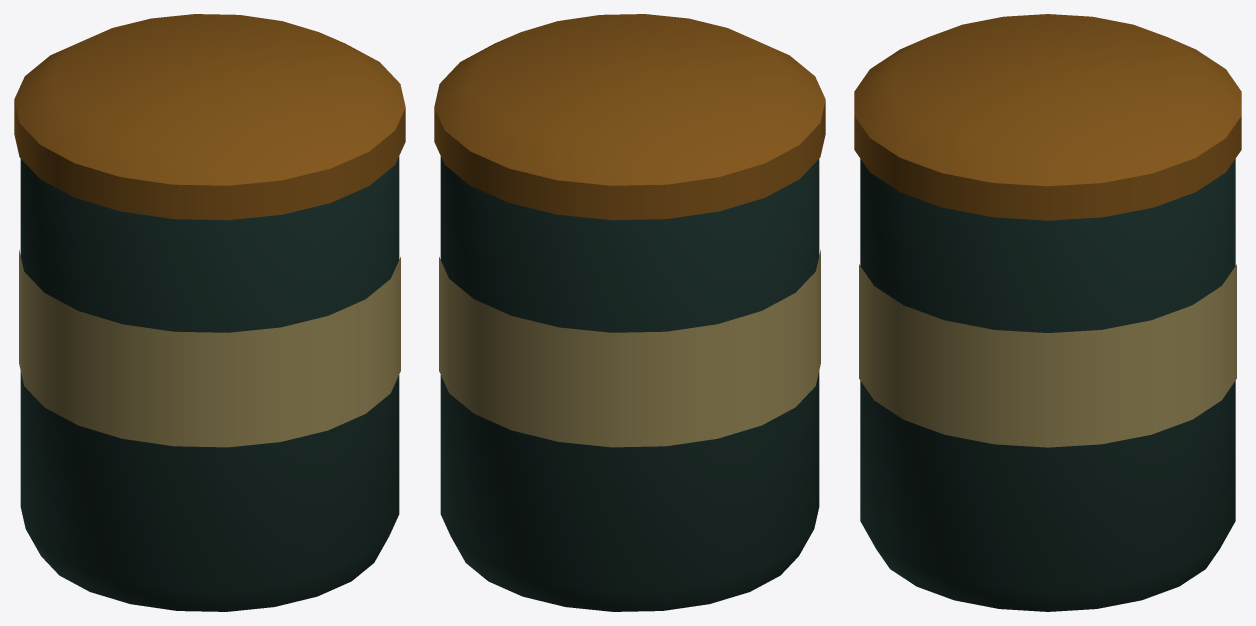
The model's file is tea-tin.glb.
3 views of the same model, side by side, from view 1: azimuth 30°, elevation 25°; view 2: azimuth 150°, elevation 25°; view 3: azimuth 270°, elevation 25° (orthographic).
Parts seen in each view (by area): view 1: body__enamel, lid__enamel; view 2: body__enamel, lid__enamel; view 3: body__enamel, lid__enamel.
Boxes of the visible parts, x1,y1,x2,y2 form: body__enamel: [19, 156, 400, 611]; lid__enamel: [14, 14, 405, 220]; body__enamel: [439, 156, 820, 611]; lid__enamel: [434, 14, 825, 220]; body__enamel: [859, 159, 1236, 611]; lid__enamel: [854, 14, 1241, 220].
Size of the model in its own units: 0.124 by 0.162 by 0.1227.
